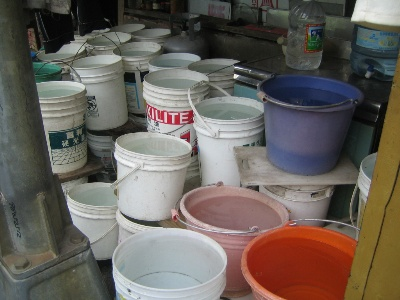bottle: (284, 1, 325, 70)
bucket: (179, 182, 290, 297), (259, 77, 363, 177), (240, 223, 357, 300), (111, 227, 228, 300), (113, 132, 191, 221), (193, 96, 263, 190), (141, 69, 209, 162), (36, 81, 87, 174), (68, 54, 129, 129), (66, 182, 117, 260), (112, 41, 162, 113)
